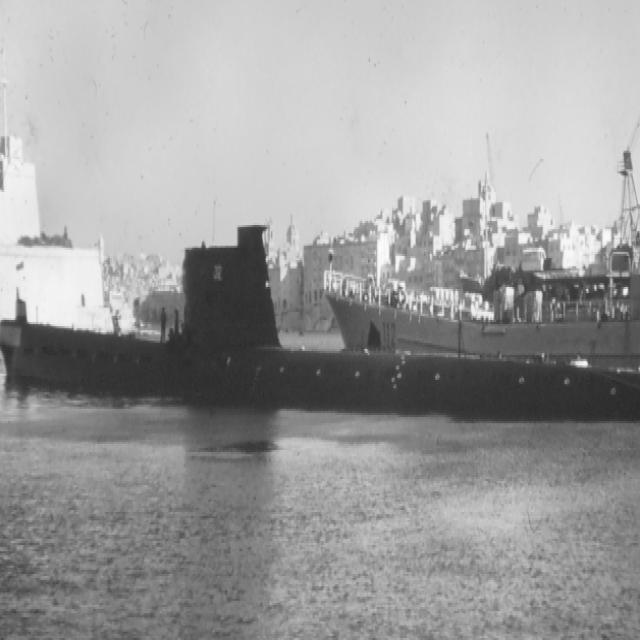submarine: (1, 222, 640, 428)
